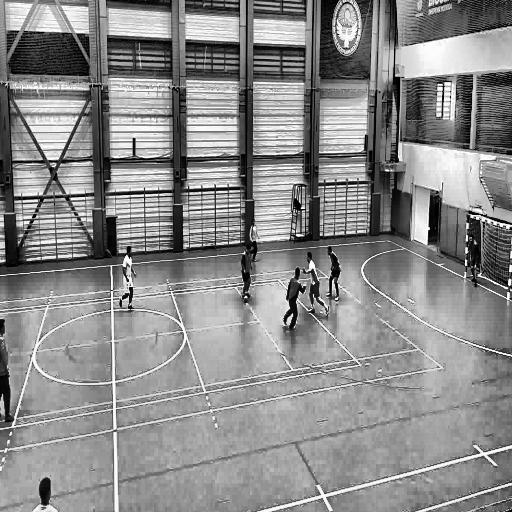ball: (242, 294, 252, 304)
player: (302, 249, 330, 321), (0, 318, 15, 424), (283, 266, 306, 332), (118, 245, 137, 313), (326, 244, 342, 304), (466, 230, 482, 289), (240, 244, 252, 298), (248, 217, 260, 263)
